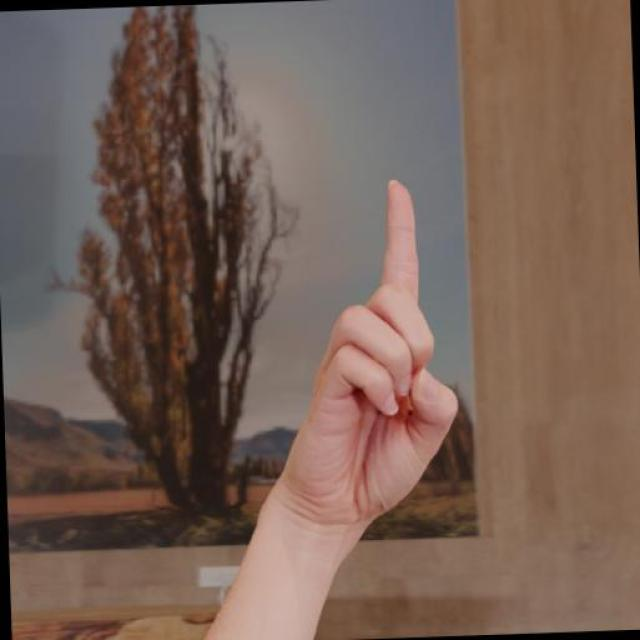D: (248, 167, 472, 565)
